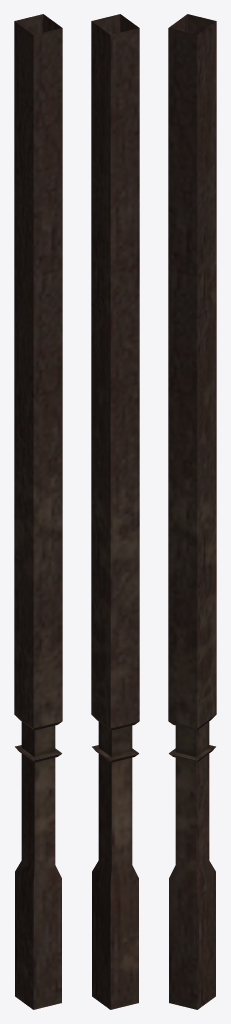
The model's file is RailingBlock_L.FBX.
3 renders of one model, left to right at view 1: azimuth 30°, elevation 25°; view 2: azimuth 210°, elevation 25°; view 3: azimuth 330°, elevation 25°, orthographic.
Parts seen in each view (by area): view 1: RailingBlock_L; view 2: RailingBlock_L; view 3: RailingBlock_L.
Boxes of the visible parts, bbox=[...] form: RailingBlock_L: bbox=[14, 14, 62, 1009]; RailingBlock_L: bbox=[91, 14, 139, 1009]; RailingBlock_L: bbox=[168, 14, 216, 1009].
Size of the model in its own units: 9.62 by 309 by 10.95.
